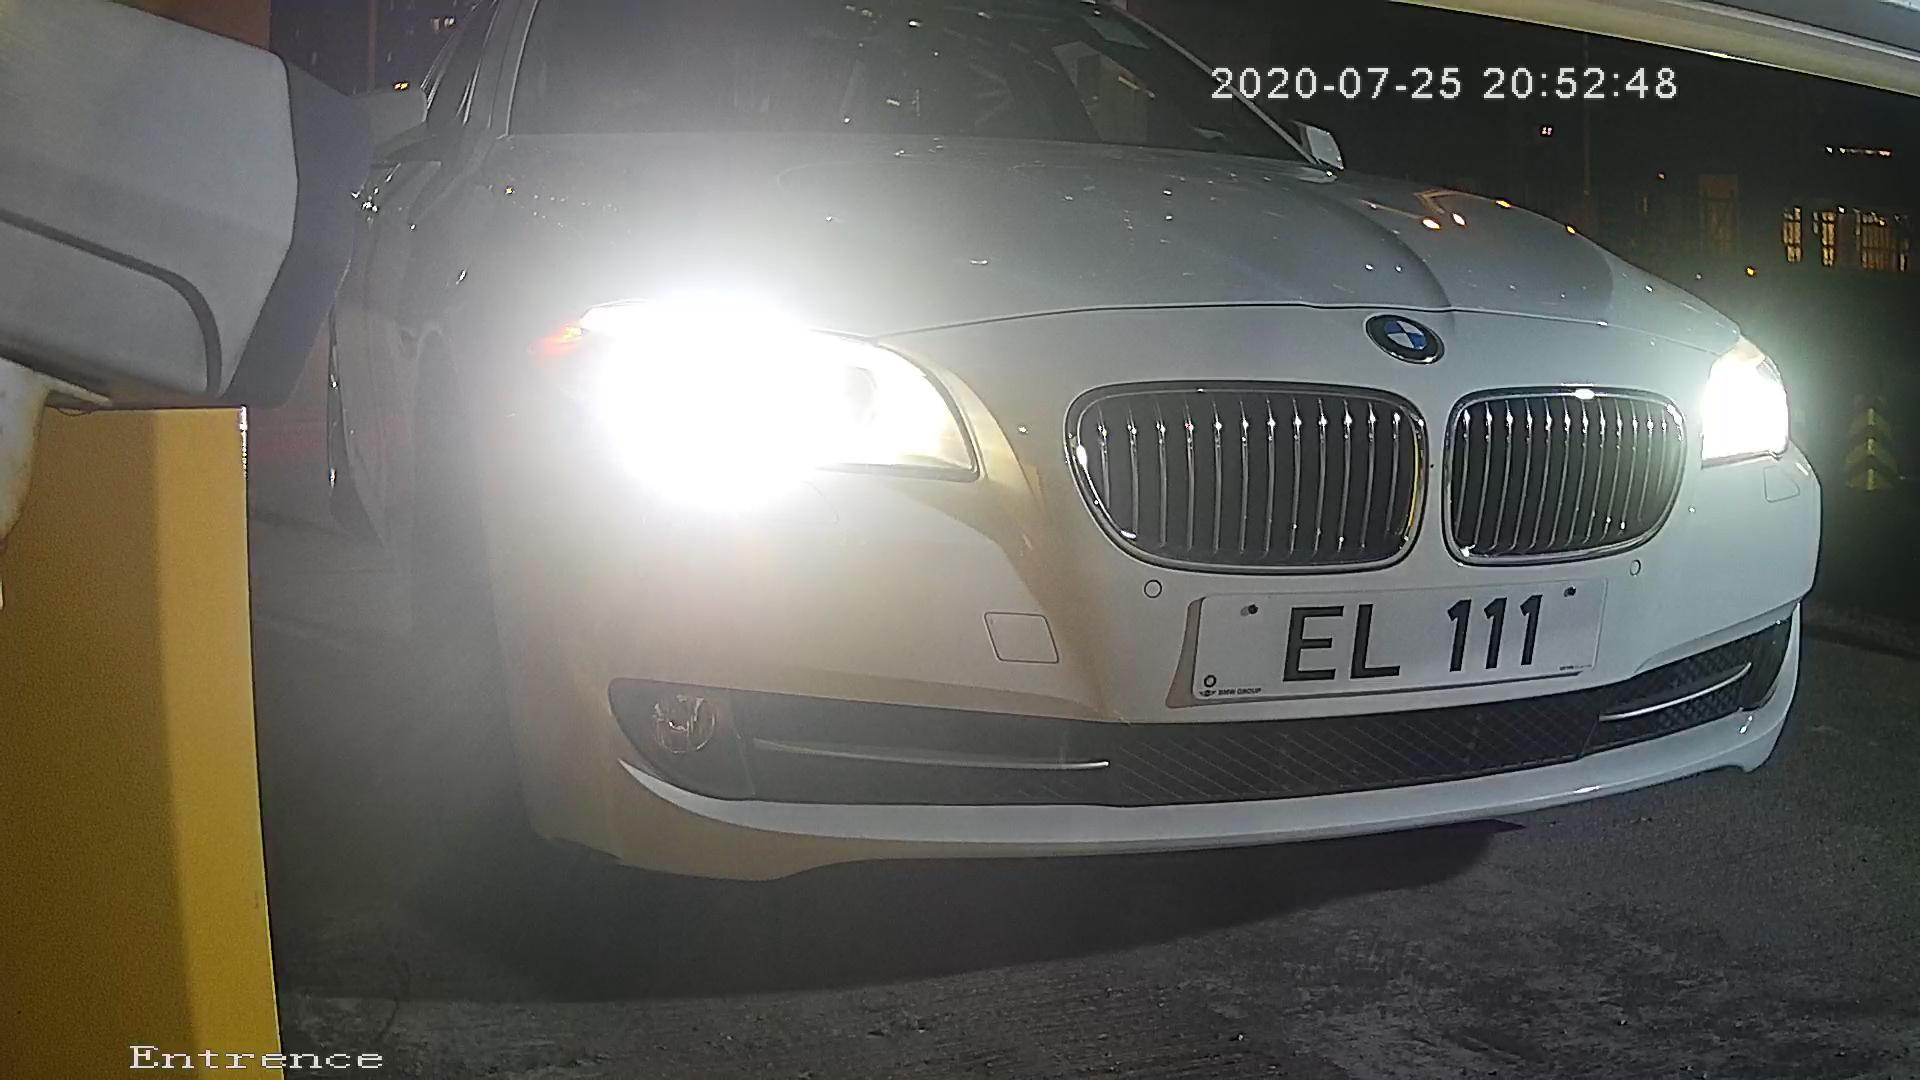Car: (129, 25, 1920, 921)
License Plate: (1175, 545, 1646, 719)
